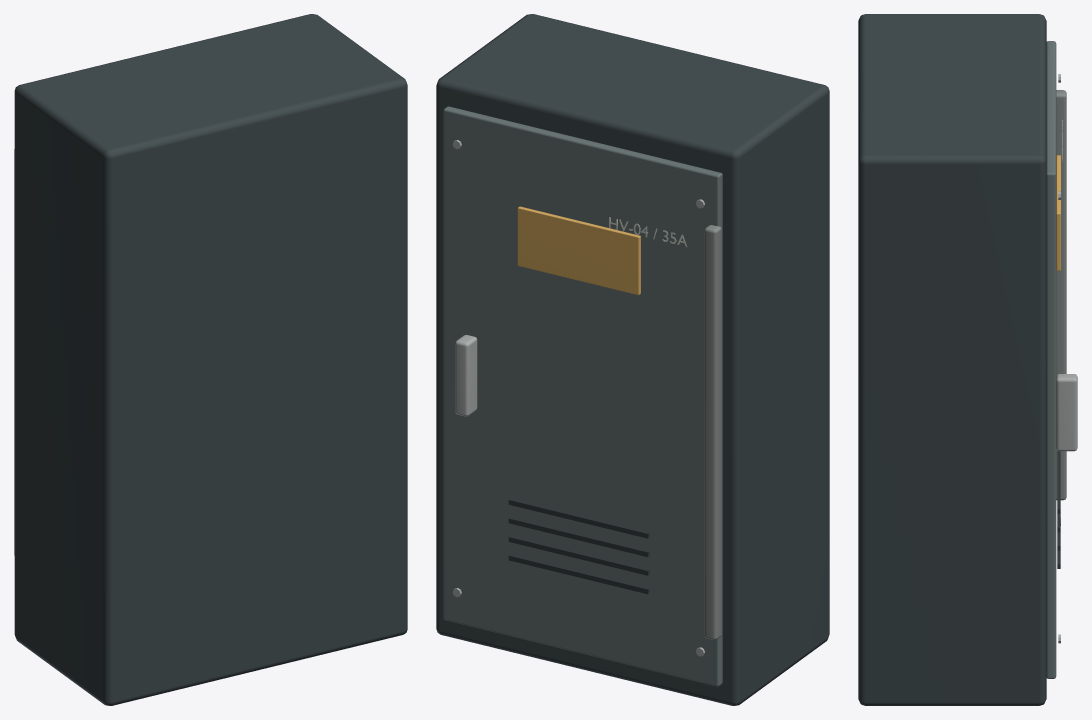
Rendered from electrical_cabinet.glb.
3 renders of one model, left to right at view 1: azimuth 30°, elevation 25°; view 2: azimuth 150°, elevation 25°; view 3: azimuth 270°, elevation 25°, orthographic.
Parts seen in each view (by area): view 1: VIS_electrical_cabinet_cabinet; view 2: VIS_electrical_cabinet_door, VIS_electrical_cabinet_cabinet, VIS_electrical_cabinet_warning, VIS_electrical_cabinet_hinge_left, VIS_electrical_cabinet_handle, VIS_electrical_cabinet_vent_-0.59, VIS_electrical_cabinet_vent_-0.66, VIS_electrical_cabinet_vent_-0.52, VIS_electrical_cabinet_vent_-0.45; view 3: VIS_electrical_cabinet_cabinet, VIS_electrical_cabinet_door, VIS_electrical_cabinet_hinge_left, VIS_electrical_cabinet_handle, VIS_electrical_cabinet_warning.
Part boxes in pixels (box(x1,y1,x2,y2)): VIS_electrical_cabinet_cabinet: box(14, 14, 407, 705); VIS_electrical_cabinet_door: box(443, 106, 722, 686); VIS_electrical_cabinet_cabinet: box(436, 14, 829, 705); VIS_electrical_cabinet_warning: box(517, 206, 640, 294); VIS_electrical_cabinet_hinge_left: box(704, 225, 721, 639); VIS_electrical_cabinet_handle: box(455, 335, 477, 416); VIS_electrical_cabinet_vent_-0.59: box(508, 536, 649, 575); VIS_electrical_cabinet_vent_-0.66: box(508, 554, 649, 594); VIS_electrical_cabinet_vent_-0.52: box(508, 517, 649, 556); VIS_electrical_cabinet_vent_-0.45: box(508, 498, 649, 538); VIS_electrical_cabinet_cabinet: box(858, 14, 1046, 705); VIS_electrical_cabinet_door: box(1046, 41, 1056, 678); VIS_electrical_cabinet_hinge_left: box(1056, 90, 1066, 500); VIS_electrical_cabinet_handle: box(1056, 374, 1077, 451); VIS_electrical_cabinet_warning: box(1056, 155, 1060, 270).
Bounding box in the file's own units: 1.2 × 2.1 × 0.7575.
